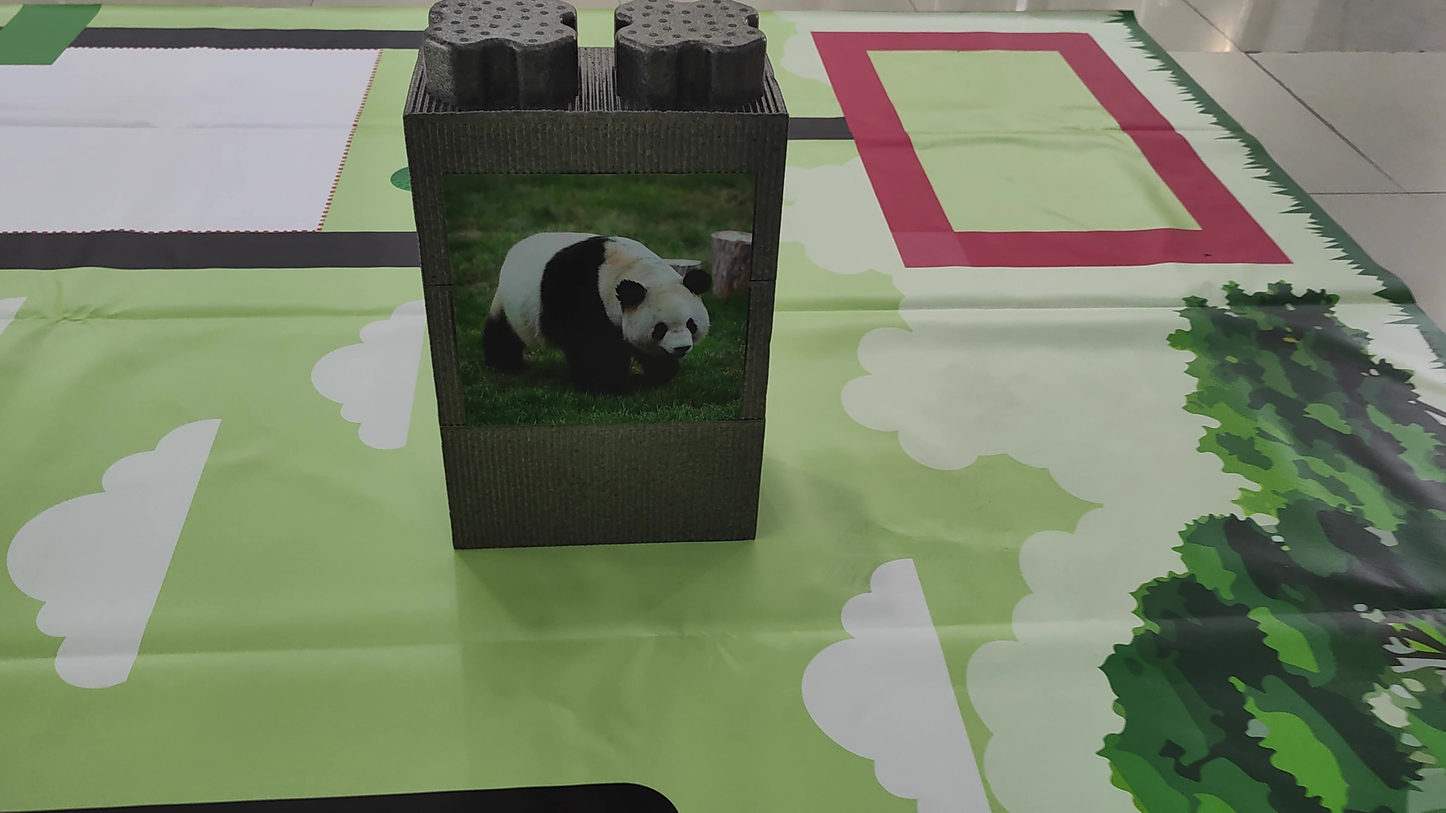panda: (450, 171, 741, 425)
